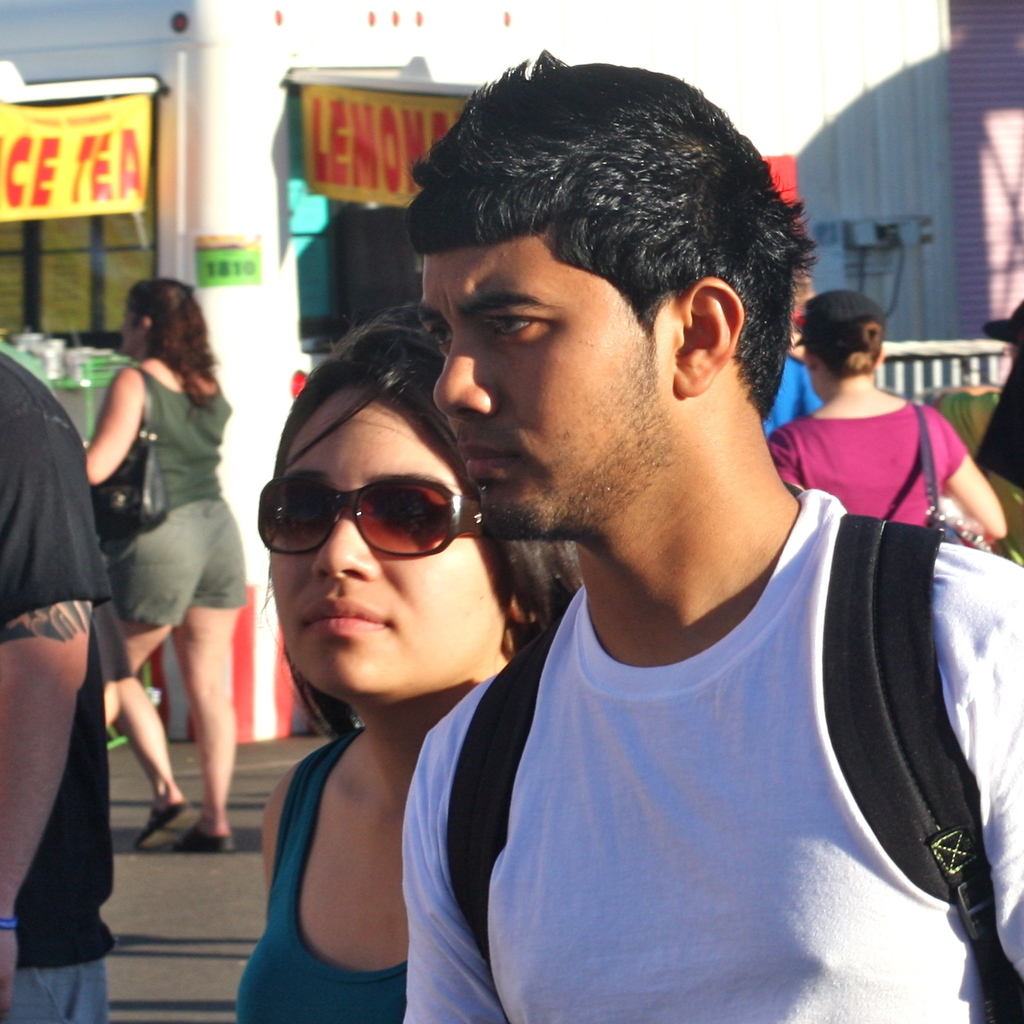Footwear: (132, 805, 188, 843), (181, 820, 232, 850)
